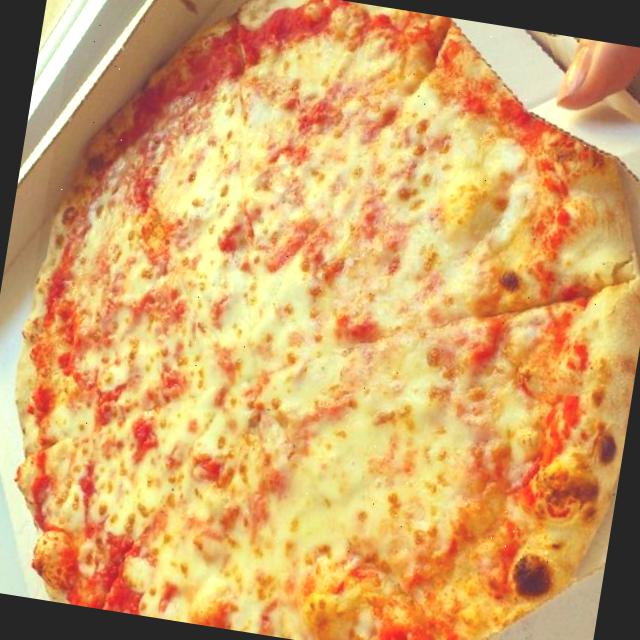pizza: (16, 0, 640, 640)
